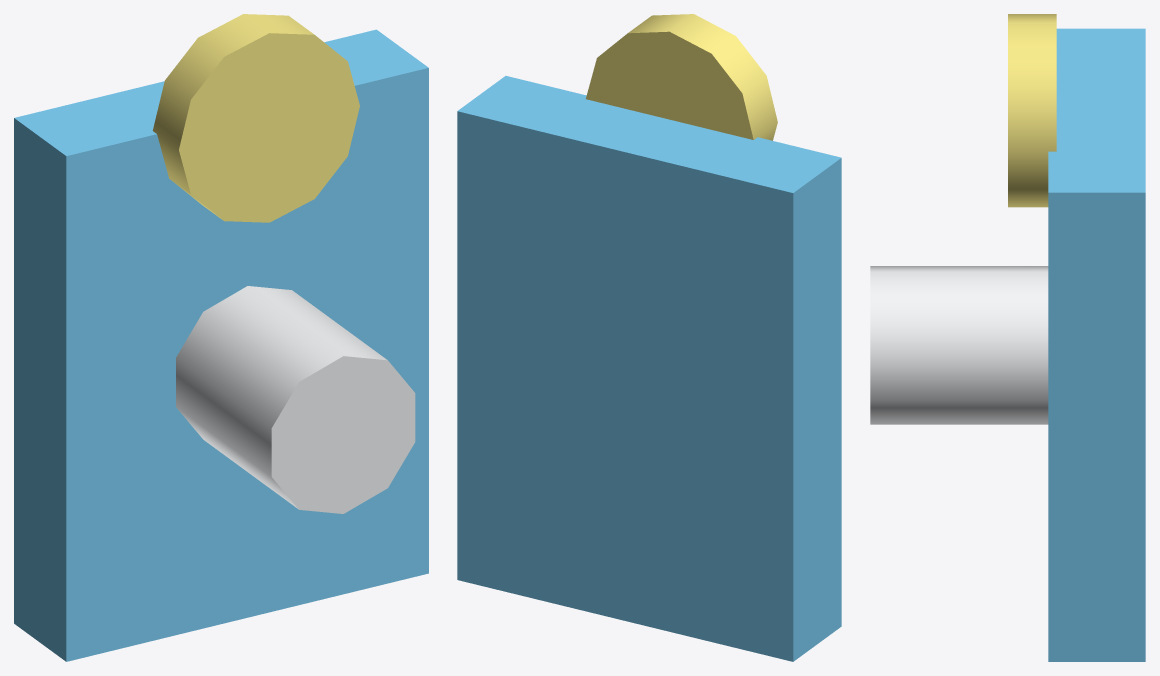
The model's file is parametric-source.glb.
The picture shows the model from 3 angles, left to right: view 1: azimuth 30°, elevation 25°; view 2: azimuth 150°, elevation 25°; view 3: azimuth 270°, elevation 25°; orthographic projection. The views are drawn at different scales.
Visible parts, largest first — view 1: openclinxr.equipment.oxygen_wall_port_equipment.wall_plate, openclinxr.equipment.oxygen_wall_port_equipment.outlet, openclinxr.equipment.oxygen_wall_port_equipment.gauge; view 2: openclinxr.equipment.oxygen_wall_port_equipment.wall_plate, openclinxr.equipment.oxygen_wall_port_equipment.gauge; view 3: openclinxr.equipment.oxygen_wall_port_equipment.wall_plate, openclinxr.equipment.oxygen_wall_port_equipment.outlet, openclinxr.equipment.oxygen_wall_port_equipment.gauge.
Part boxes in pixels (x1,y1,x2,y2): openclinxr.equipment.oxygen_wall_port_equipment.wall_plate: (14, 29, 428, 661); openclinxr.equipment.oxygen_wall_port_equipment.outlet: (176, 286, 415, 513); openclinxr.equipment.oxygen_wall_port_equipment.gauge: (152, 14, 359, 222); openclinxr.equipment.oxygen_wall_port_equipment.wall_plate: (457, 76, 841, 661); openclinxr.equipment.oxygen_wall_port_equipment.gauge: (586, 14, 777, 140); openclinxr.equipment.oxygen_wall_port_equipment.wall_plate: (1048, 28, 1145, 661); openclinxr.equipment.oxygen_wall_port_equipment.outlet: (870, 266, 1048, 424); openclinxr.equipment.oxygen_wall_port_equipment.gauge: (1008, 14, 1056, 207).
Size of the model in its own units: 0.12 by 0.19 by 0.085.
